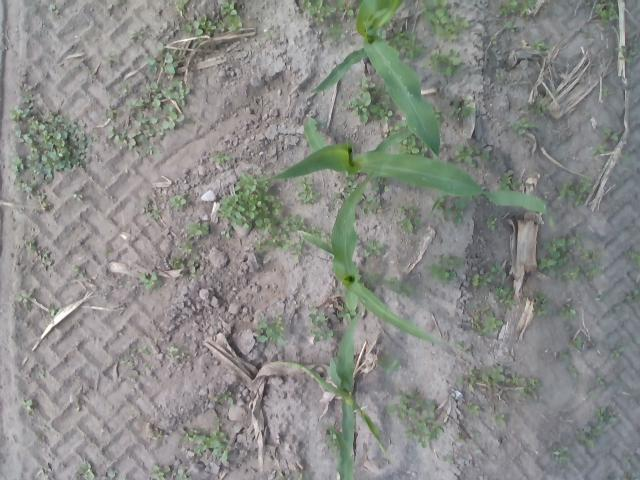Maize: (264, 114, 556, 232), (298, 168, 438, 343), (312, 0, 442, 157), (282, 312, 388, 455), (322, 421, 354, 480)
Weeds: (7, 95, 92, 210), (107, 43, 190, 156), (216, 172, 282, 234), (386, 388, 444, 448), (456, 364, 542, 400), (423, 0, 469, 41), (538, 234, 582, 275), (576, 405, 617, 448), (180, 428, 230, 462), (16, 234, 54, 270), (343, 91, 381, 123), (473, 296, 503, 336), (388, 29, 424, 60), (253, 312, 285, 344), (254, 240, 304, 260), (424, 254, 461, 281), (428, 49, 462, 77), (472, 260, 505, 286), (454, 143, 489, 167), (299, 0, 337, 22), (218, 1, 242, 33), (294, 176, 320, 204), (396, 206, 422, 234), (496, 0, 530, 18), (185, 14, 215, 34), (140, 198, 167, 220), (444, 200, 466, 227), (593, 0, 618, 23), (493, 285, 518, 307), (448, 100, 476, 118), (386, 278, 411, 298), (574, 178, 591, 206), (141, 272, 163, 291), (311, 326, 333, 345), (360, 194, 380, 214), (186, 222, 208, 240), (512, 117, 534, 135), (328, 22, 346, 44), (377, 358, 401, 374), (282, 214, 306, 230), (74, 463, 95, 480), (534, 293, 550, 315), (308, 311, 329, 327), (365, 238, 383, 256), (615, 46, 634, 63), (22, 400, 38, 420), (336, 0, 356, 15), (581, 248, 602, 262), (212, 150, 230, 166), (170, 194, 188, 210), (401, 138, 419, 154), (152, 464, 170, 480), (357, 76, 376, 90), (552, 446, 568, 462), (625, 250, 640, 267), (558, 305, 576, 319), (520, 104, 545, 114), (584, 264, 603, 277), (560, 180, 575, 196), (333, 188, 350, 202), (372, 177, 389, 191), (562, 267, 580, 280), (174, 0, 189, 15), (70, 264, 86, 278), (602, 126, 618, 140), (15, 290, 32, 303), (326, 434, 338, 452), (167, 346, 180, 362), (178, 242, 194, 255), (215, 392, 232, 404), (168, 256, 185, 268), (130, 347, 150, 357), (500, 172, 510, 192), (270, 229, 288, 240), (343, 175, 358, 188), (592, 142, 607, 155), (466, 401, 479, 415), (361, 274, 379, 284), (486, 213, 496, 230), (380, 109, 393, 122), (566, 363, 578, 377), (610, 347, 624, 358), (46, 304, 58, 316), (570, 336, 582, 348), (128, 29, 144, 38), (308, 228, 325, 236), (437, 194, 445, 210), (442, 454, 454, 464), (396, 205, 408, 215), (626, 290, 638, 300), (432, 106, 442, 118), (503, 22, 518, 30), (187, 260, 196, 273), (494, 414, 505, 424), (108, 469, 118, 479), (534, 40, 544, 50), (558, 350, 569, 359), (108, 52, 115, 66), (121, 359, 134, 366), (115, 278, 125, 287), (602, 86, 611, 96), (50, 5, 60, 14), (266, 30, 277, 38), (390, 125, 399, 134), (452, 434, 462, 442), (131, 366, 139, 376), (456, 340, 464, 350), (596, 376, 604, 384), (221, 231, 230, 238), (625, 471, 632, 480), (156, 427, 162, 437), (588, 389, 596, 396), (622, 153, 630, 160), (491, 36, 498, 44), (472, 430, 481, 436), (102, 250, 109, 256), (624, 456, 630, 462), (476, 449, 482, 454), (468, 439, 474, 444), (608, 476, 615, 480), (556, 274, 560, 280)
